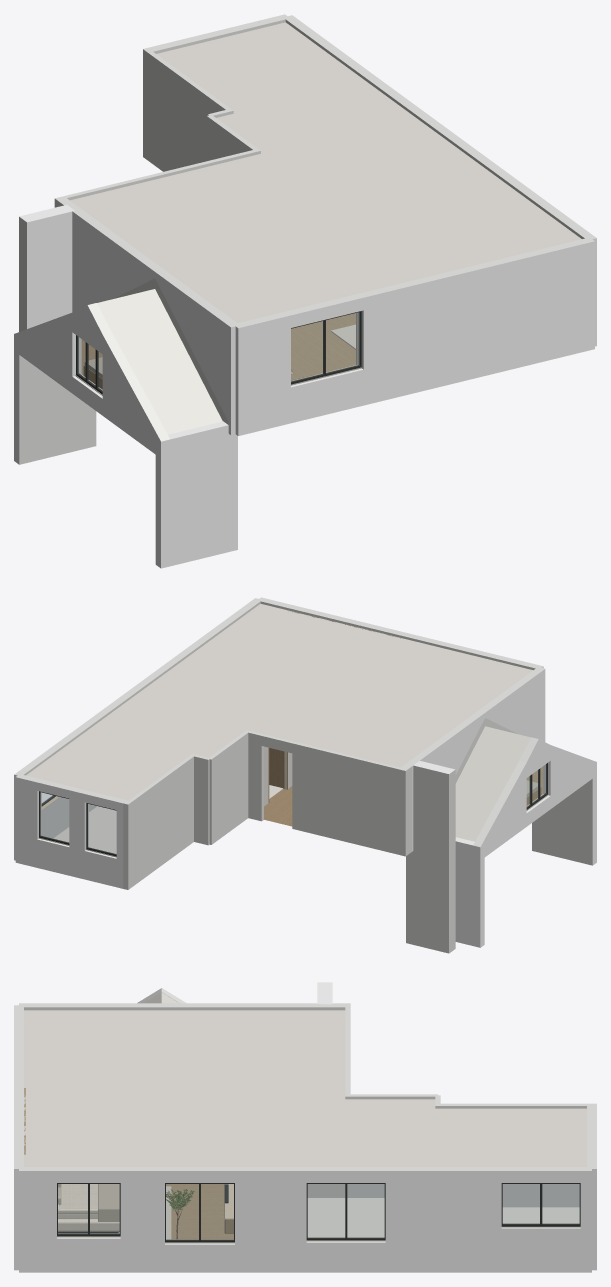
3 renders of one model, top to bottom at view 1: azimuth 30°, elevation 25°; view 2: azimuth 150°, elevation 25°; view 3: azimuth 270°, elevation 25°, orthographic. The views are drawn at different scales.
Parts seen in each view (by area): view 1: Bedroom 02 | ceiling 0, Proposal | New wing south upper end pier.001, Bedroom 02 | ceiling 2, Proposal | Garage wing south return.001, Proposal | West upper principal facade above wing roof.001, Bedroom 02 | retained vault soffit, Proposal | New wing south upper pier 0.001, Proposal | Garage wing north return.001, Proposal | Entrance bay south return.001, Proposal | Guest bathroom west.001, Proposal | New wing south upper window 0 glass.001, Proposal | Continued roof garage wing gable south head 0.001 (+15 smaller); view 2: Bedroom 02 | ceiling 0, Bedroom 02 | ceiling 2, Proposal | Principal suite north partition pier 0.001, Proposal | Entrance bay south return.001, Bedroom 02 | retained vault soffit.001, Proposal | West upper principal facade above wing roof.001, Proposal | Guest bathroom west.001, Proposal | Garage wing south return.001, Proposal | Principal study west wall.001, Proposal | Garage wing north return.001, Proposal | North upper facade east end pier.001, Proposal | Courtyard upper return.001 (+21 smaller); view 3: Bedroom 02 | ceiling 0, Bedroom 02 | ceiling 2, Proposal | New wing east upper end pier.001, Proposal | New wing east upper pier 2.001, Proposal | New wing east upper pier 1.001, Bedroom 02 | floor 2, Proposal | New wing east upper window 2 glass.001, Proposal | New wing east upper pier 0.001, Proposal | New wing east upper window 1 glass.001, Proposal | New wing east upper sill 3, Proposal | New wing east upper window 0 glass.001, Proposal | New wing east upper window 3 glass (+19 smaller).
Boxes of the visible parts, x1=… form: Bedroom 02 | ceiling 0: x1=70, y1=154, x2=581, y2=322; Proposal | New wing south upper end pier.001: x1=358, y1=237, x2=594, y2=405; Bedroom 02 | ceiling 2: x1=156, y1=22, x2=464, y2=190; Proposal | Garage wing south return.001: x1=155, y1=421, x2=237, y2=568; Proposal | West upper principal facade above wing roof.001: x1=81, y1=216, x2=237, y2=421; Bedroom 02 | retained vault soffit: x1=97, y1=289, x2=222, y2=434; Proposal | New wing south upper pier 0.001: x1=233, y1=311, x2=290, y2=435; Proposal | Garage wing north return.001: x1=14, y1=335, x2=96, y2=464; Proposal | Entrance bay south return.001: x1=19, y1=203, x2=81, y2=331; Proposal | Guest bathroom west.001: x1=145, y1=50, x2=231, y2=171; Proposal | New wing south upper window 0 glass.001: x1=291, y1=312, x2=359, y2=381; Proposal | Continued roof garage wing gable south head 0.001: x1=102, y1=332, x2=169, y2=441; Bedroom 02 | ceiling 0: x1=166, y1=603, x2=532, y2=767; Bedroom 02 | ceiling 2: x1=26, y1=673, x2=286, y2=800; Proposal | Principal suite north partition pier 0.001: x1=292, y1=741, x2=400, y2=854; Proposal | Entrance bay south return.001: x1=406, y1=761, x2=455, y2=953; Bedroom 02 | retained vault soffit.001: x1=455, y1=726, x2=530, y2=841; Proposal | West upper principal facade above wing roof.001: x1=420, y1=668, x2=543, y2=774; Proposal | Guest bathroom west.001: x1=127, y1=754, x2=193, y2=885; Proposal | Garage wing south return.001: x1=532, y1=763, x2=596, y2=865; Proposal | Principal study west wall.001: x1=208, y1=730, x2=248, y2=844; Proposal | Garage wing north return.001: x1=455, y1=837, x2=484, y2=947; Proposal | North upper facade east end pier.001: x1=15, y1=774, x2=41, y2=867; Proposal | Courtyard upper return.001: x1=124, y1=789, x2=148, y2=889; Bedroom 02 | ceiling 0: x1=24, y1=1010, x2=345, y2=1166; Bedroom 02 | ceiling 2: x1=249, y1=1099, x2=586, y2=1166; Proposal | New wing east upper end pier.001: x1=385, y1=1167, x2=501, y2=1272; Proposal | New wing east upper pier 2.001: x1=235, y1=1167, x2=306, y2=1272; Proposal | New wing east upper pier 1.001: x1=120, y1=1167, x2=164, y2=1272; Bedroom 02 | floor 2: x1=307, y1=1198, x2=579, y2=1237; Proposal | New wing east upper window 2 glass.001: x1=308, y1=1184, x2=384, y2=1237; Proposal | New wing east upper pier 0.001: x1=19, y1=1167, x2=56, y2=1272; Proposal | New wing east upper window 1 glass.001: x1=166, y1=1184, x2=233, y2=1239; Proposal | New wing east upper sill 3: x1=501, y1=1227, x2=580, y2=1272; Proposal | New wing east upper window 0 glass.001: x1=58, y1=1184, x2=119, y2=1233; Proposal | New wing east upper window 3 glass: x1=503, y1=1184, x2=579, y2=1223.
Bounding box in the file's own units: 10.72 × 5.35 × 13.28.
24 materials, 3 textured.
